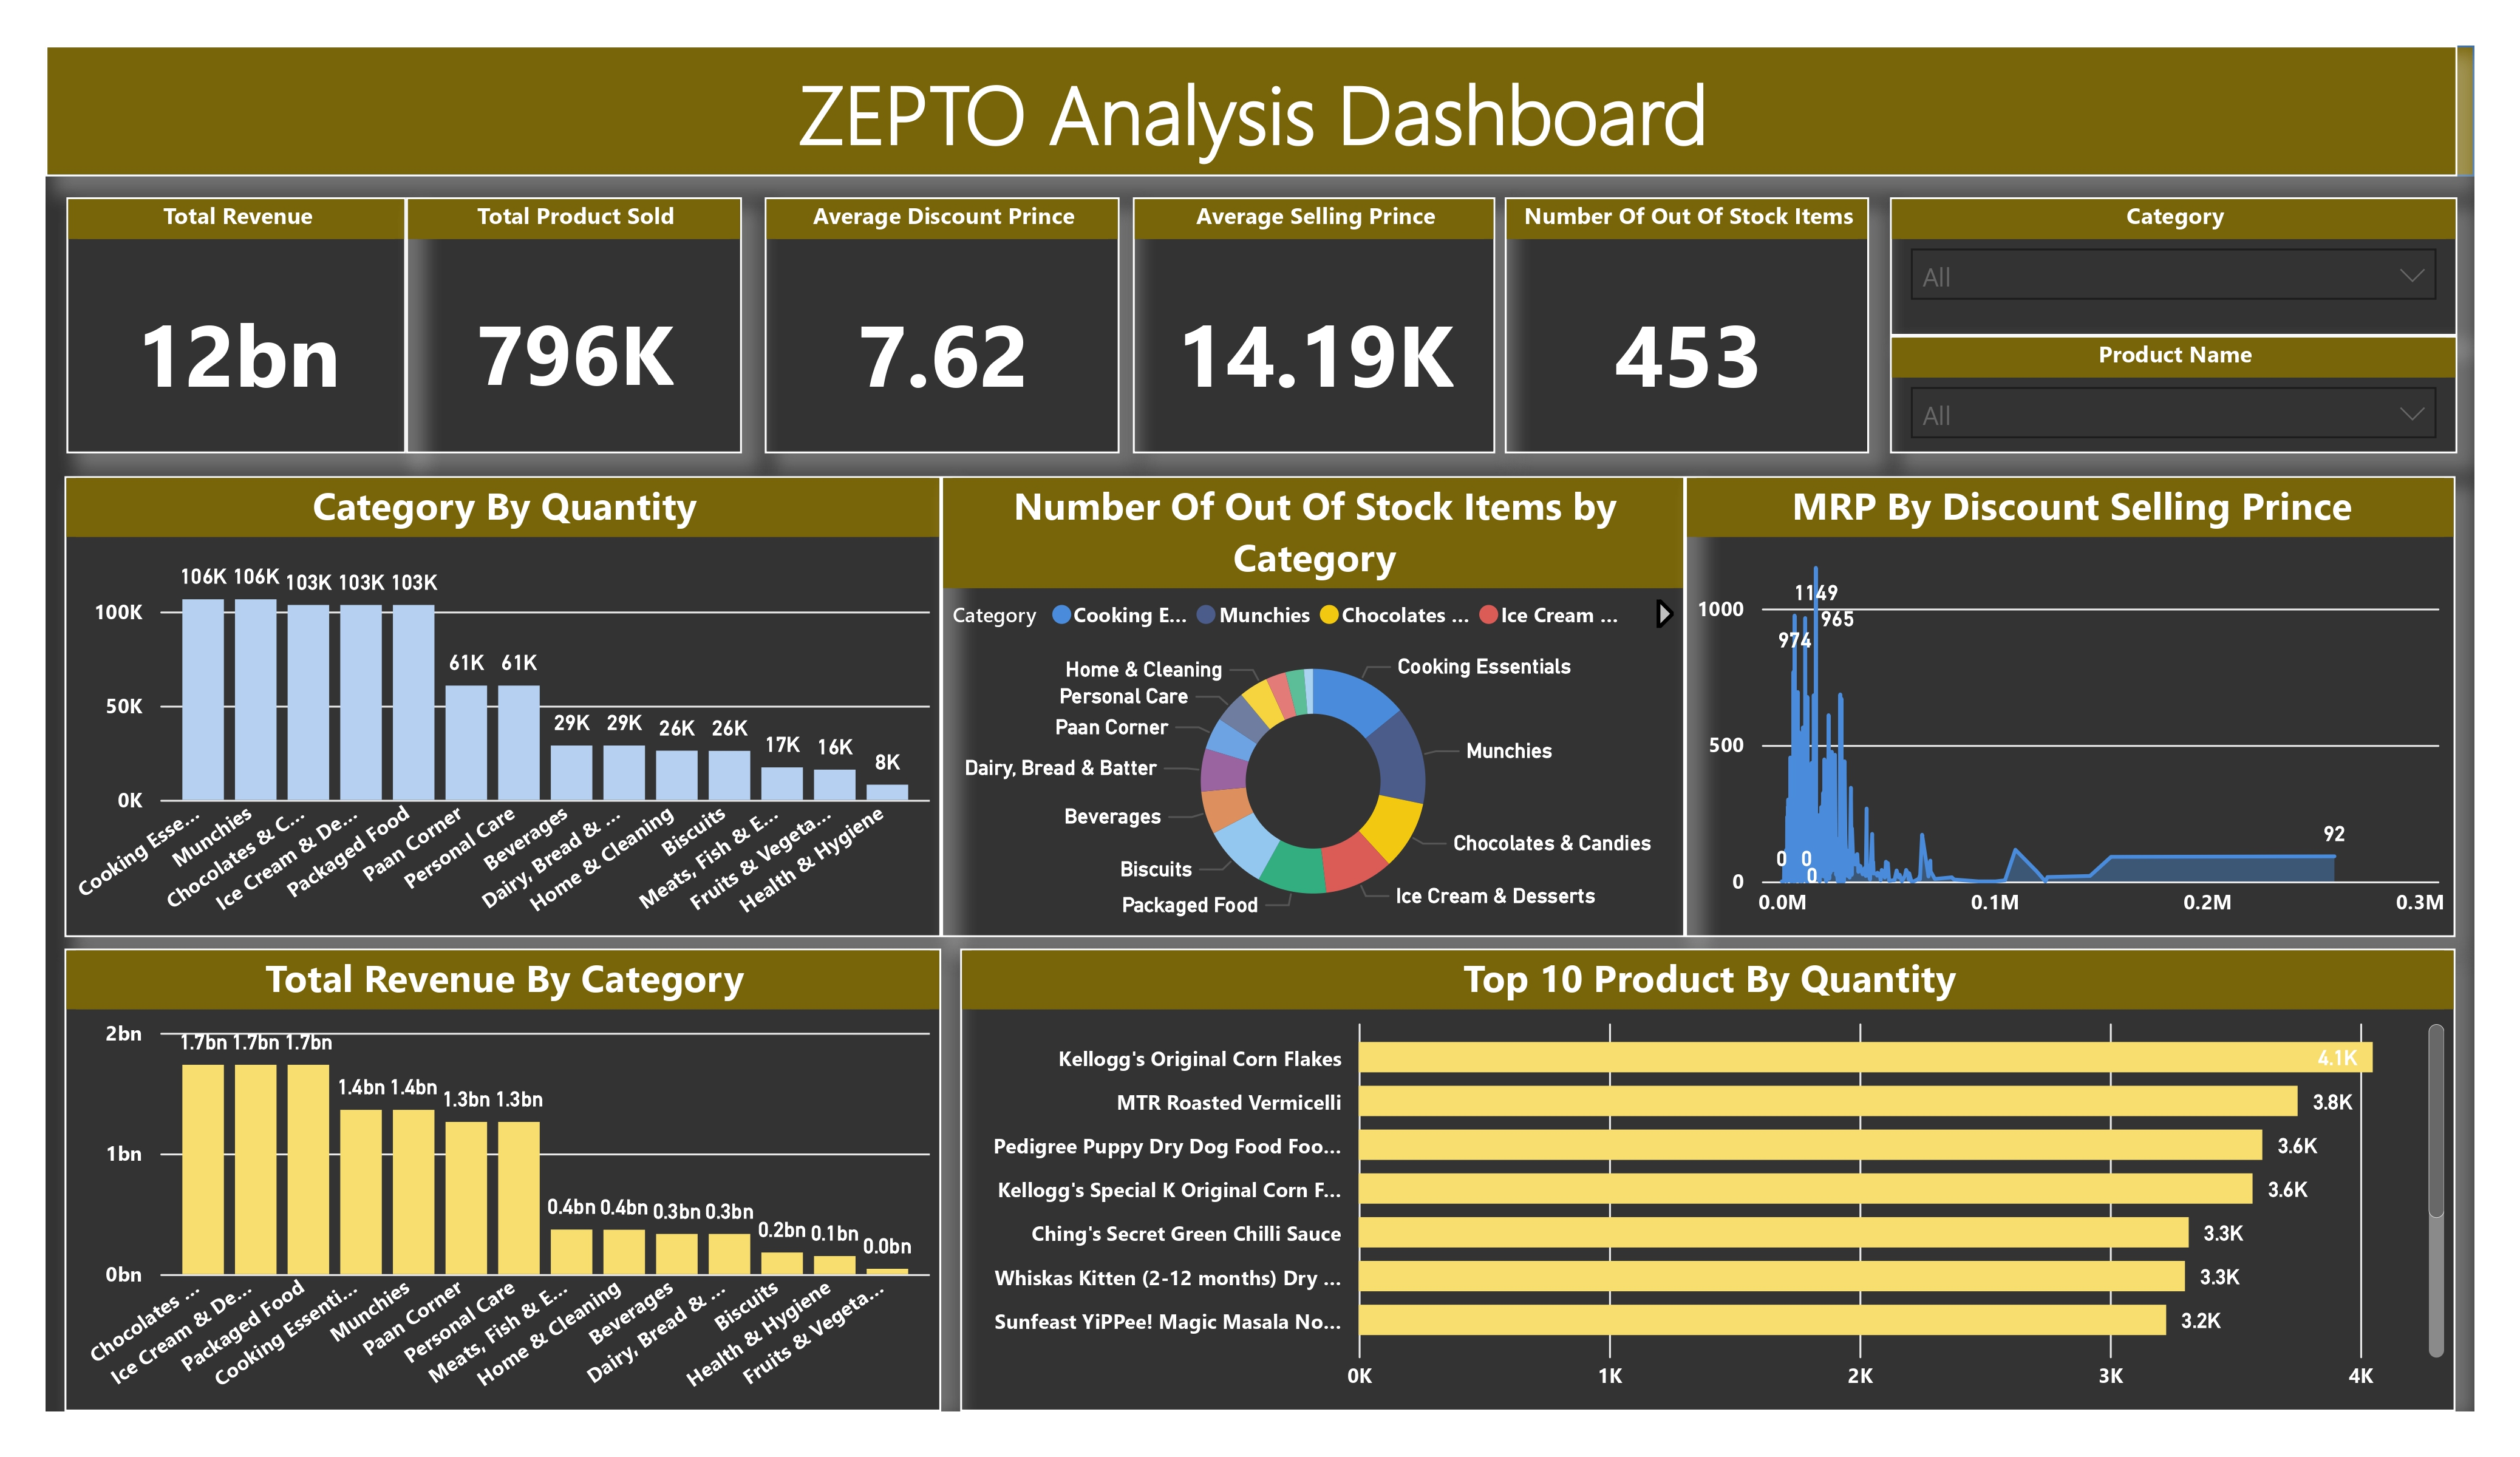

Layout of this report page (visuals, bound fields, positions):
{"tool":"powerbi","page":{"name":"Page 1","canvas":[1280,720],"ordinal":0},"visuals":[{"type":"shape","box":[0,0,1279.7,69.3],"z":0},{"type":"textbox","box":[0,0,1270.8,69.4],"z":1000},{"type":"cardVisual","title":"Total Revenue","fields":{"Data":["Sum(Sheet1.Total Revenue)"]},"box":[10.7,80.1,179.8,135.3],"z":2000},{"type":"cardVisual","title":"Total Product Sold","fields":{"Data":["Sum(Sheet1.quantity)"]},"box":[190.4,80.1,176.2,135.3],"z":3000},{"type":"cardVisual","title":"Average Discount Prince","fields":{"Data":["Avg(Sheet1.discountPercent)"]},"box":[379.1,80.1,186.9,135.3],"z":4000},{"type":"cardVisual","title":"Average Selling Prince","fields":{"Data":["Avg(Sheet1.discountedSellingPrice)"]},"box":[573.1,80.1,190.4,135.3],"z":5000},{"type":"cardVisual","title":"Number Of Out Of Stock Items","fields":{"Data":["Sheet1.Number Of Out Of Stock Items"]},"box":[768.9,80.1,192.2,135.3],"z":6000},{"type":"slicer","title":"Category","fields":{"Values":["Sheet1.Category"]},"box":[971.8,80.1,299,73],"z":7000},{"type":"slicer","title":"Product Name","fields":{"Values":["Sheet1.name"]},"box":[971.8,153.1,299,62.3],"z":8000},{"type":"columnChart","title":"Category By Quantity","fields":{"Category":["Sheet1.Category"],"Y":["Sum(Sheet1.quantity)"]},"box":[10.1,226.5,461.7,243.8],"z":9000},{"type":"donutChart","fields":{"Category":["Sheet1.Category"],"Y":["Sheet1.Number Of Out Of Stock Items"]},"box":[471.8,226.5,392.4,243.8],"z":10000},{"type":"areaChart","title":"MRP By Discount Selling Prince","fields":{"Y":["Sum(Sheet1.discountPercent)"],"Category":["Sheet1.mrp"]},"box":[864.2,226.5,405.4,243.8],"z":11000},{"type":"columnChart","title":"Total Revenue By Category","fields":{"Category":["Sheet1.Category"],"Y":["Sum(Sheet1.Total Revenue)"]},"box":[10.1,476.1,461.7,243.8],"z":12000},{"type":"barChart","title":"Top 10 Product By Quantity","fields":{"Category":["Sheet1.name"],"Y":["Sum(Sheet1.quantity)"]},"box":[481.9,476.1,787.7,243.8],"z":13000}]}

Visuals, with their boxes on the page's 1280x720 design canvas (x1, y1, x2, y2). These are canvas units, not pixel positions in the 2520x1457 screenshot, which may show the page scaled, cropped or inside an application window:
shape: l=0, t=0, r=1280, b=69
textbox: l=0, t=0, r=1271, b=69
"Total Revenue" cardVisual: l=11, t=80, r=190, b=215
"Total Product Sold" cardVisual: l=190, t=80, r=367, b=215
"Average Discount Prince" cardVisual: l=379, t=80, r=566, b=215
"Average Selling Prince" cardVisual: l=573, t=80, r=764, b=215
"Number Of Out Of Stock Items" cardVisual: l=769, t=80, r=961, b=215
"Category" slicer: l=972, t=80, r=1271, b=153
"Product Name" slicer: l=972, t=153, r=1271, b=215
"Category By Quantity" columnChart: l=10, t=226, r=472, b=470
donutChart - Sheet1.Category x Sheet1.Number Of Out Of Stock Items: l=472, t=226, r=864, b=470
"MRP By Discount Selling Prince" areaChart: l=864, t=226, r=1270, b=470
"Total Revenue By Category" columnChart: l=10, t=476, r=472, b=720
"Top 10 Product By Quantity" barChart: l=482, t=476, r=1270, b=720
